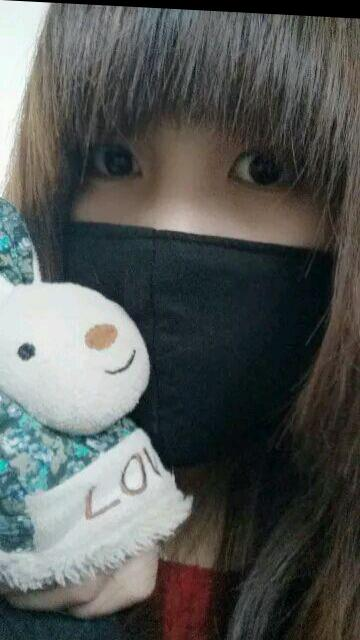WRONG: (37, 101, 321, 426)
